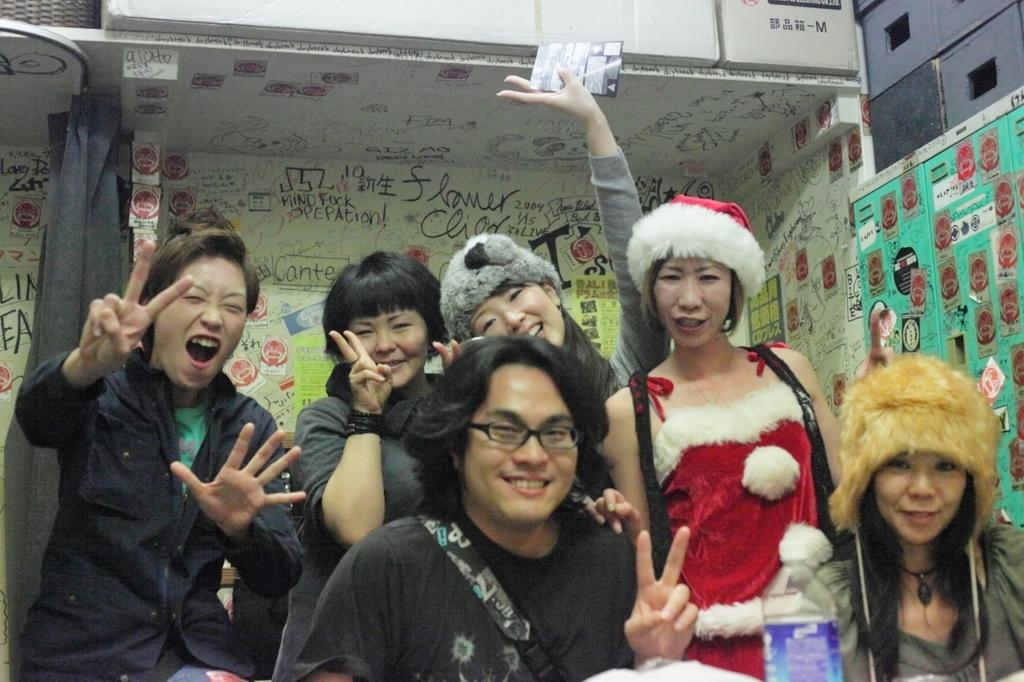Sem Máscara: (462, 361, 577, 527), (151, 253, 247, 387), (871, 451, 964, 545), (649, 255, 731, 348), (345, 310, 430, 388), (465, 280, 564, 345)
